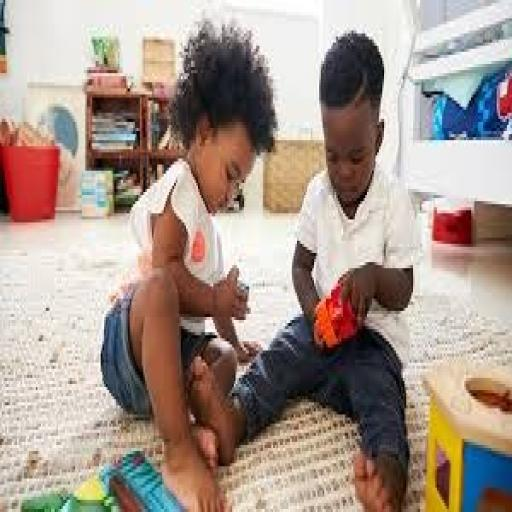baby: (207, 31, 419, 511), (101, 22, 276, 511)
